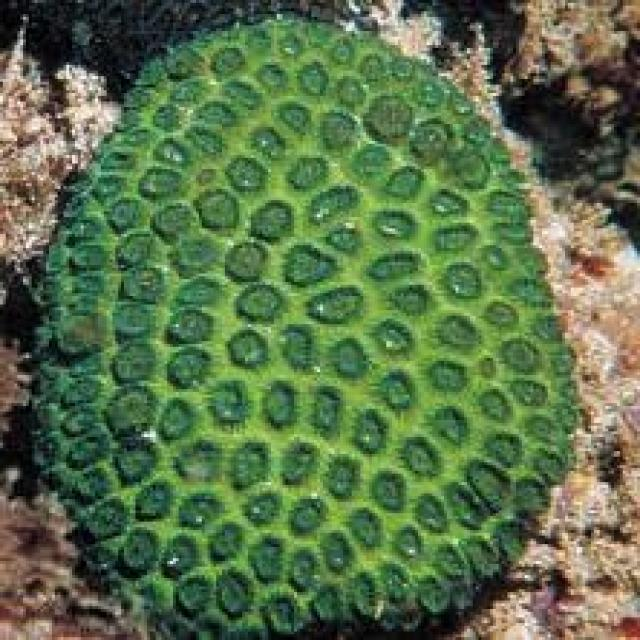Coral: (34, 12, 580, 640)
